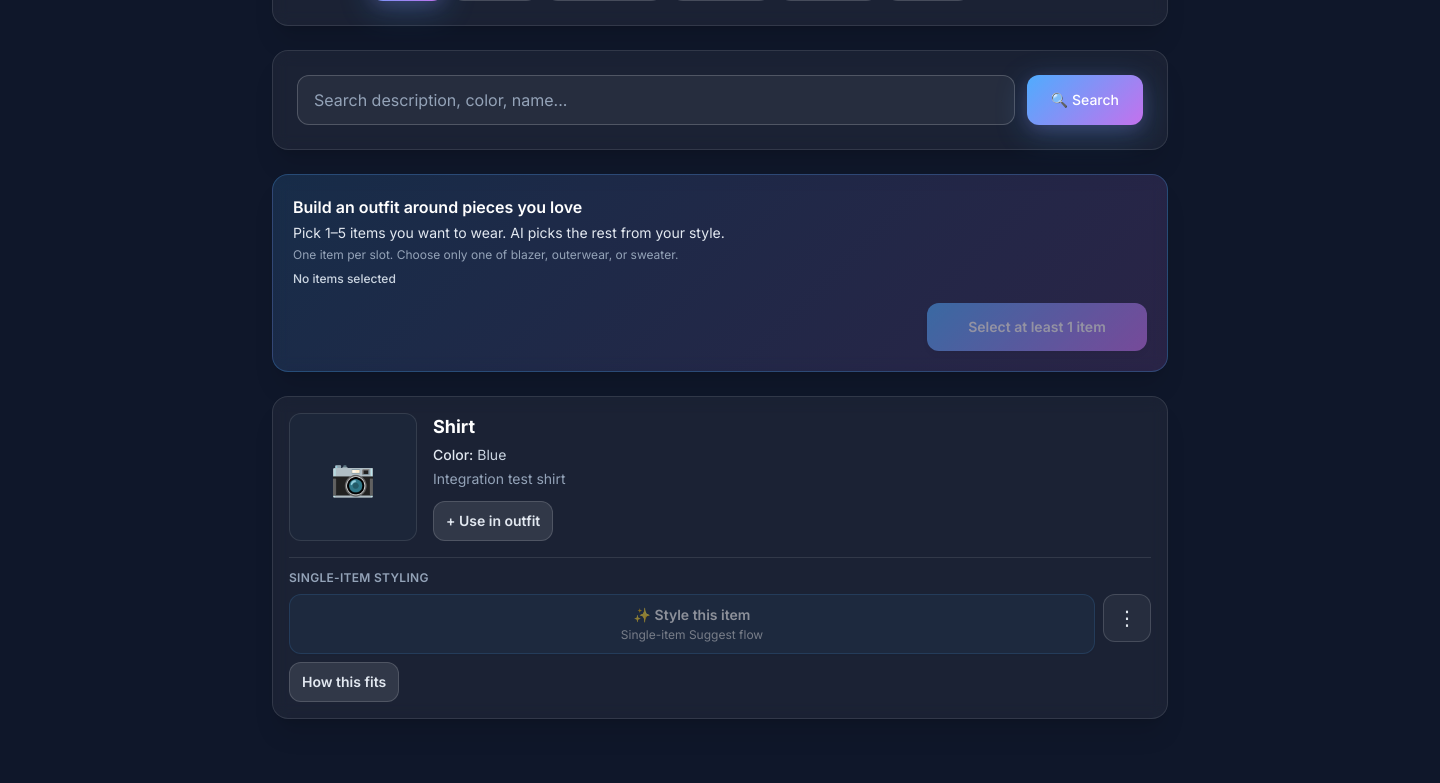
Test: WardrobeFitEvaluate integration › admin AI cost row › shows AI cost and model token detail for a non-cached admin result
(page scrolled)
Expected: the text "Integration test shirt" is shown, x1=433 y1=470 x2=566 y2=487
Click the button with test id "wardrobe-how-this-fits-1" at (344, 682), box x1=289 y1=662 x2=399 y2=702
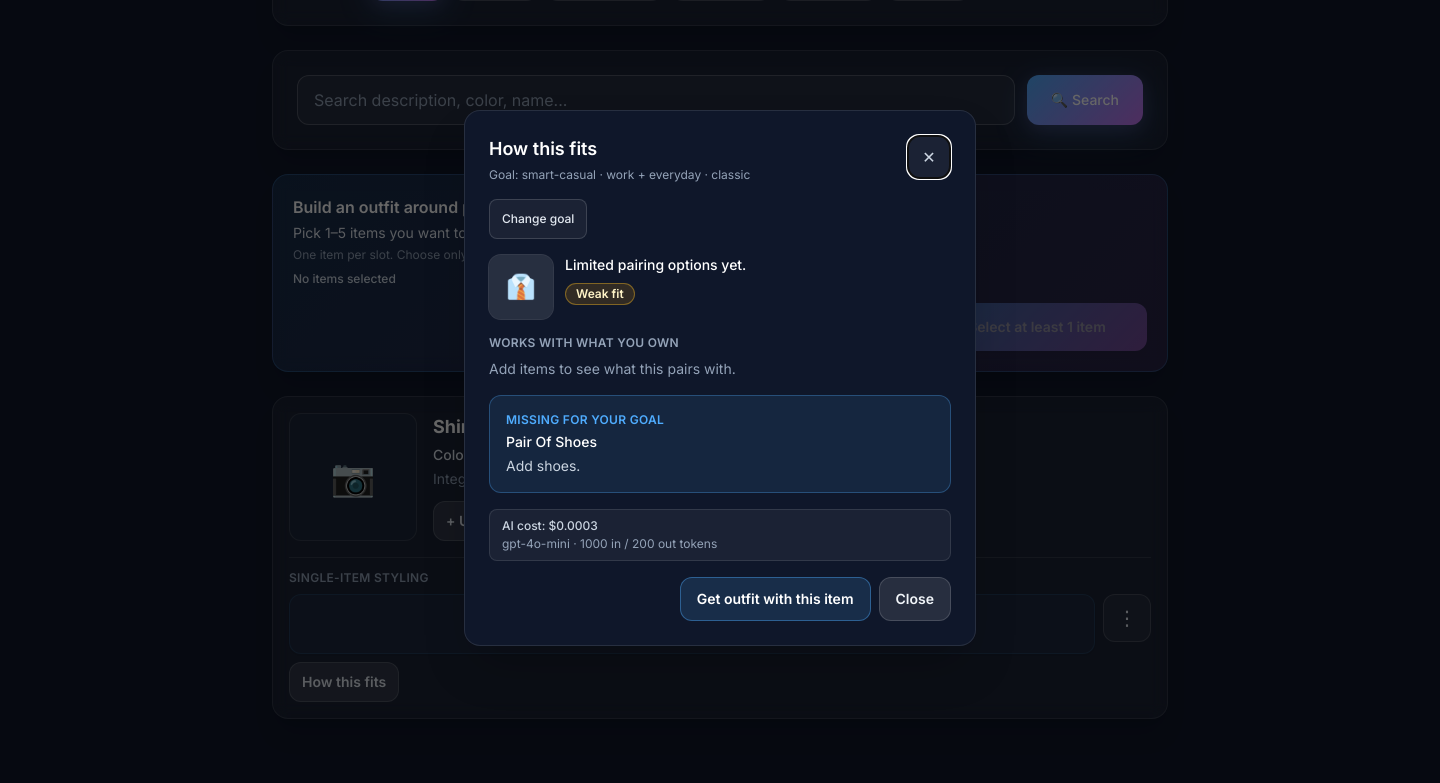
Now the element with test id "wardrobe-fit-result" is shown, box x1=489 y1=255 x2=951 y2=621
Now the element with test id "wardrobe-fit-admin-cost" shows "AI cost: $0.0003", box x1=502 y1=518 x2=598 y2=533
Now the element with test id "wardrobe-fit-admin-cost" shows "gpt-4o-mini · 1000 in / 200 out tokens", box x1=502 y1=536 x2=717 y2=551
